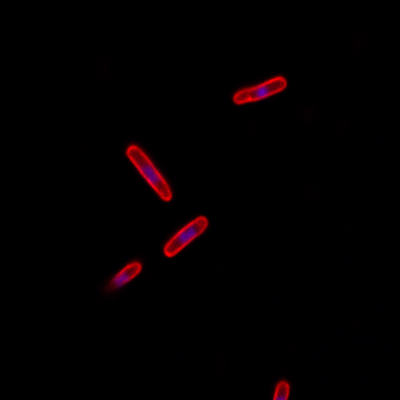Nalidixate: (123, 142, 175, 203), (162, 213, 210, 258), (230, 75, 289, 108)
Oblique: (105, 259, 143, 294)
